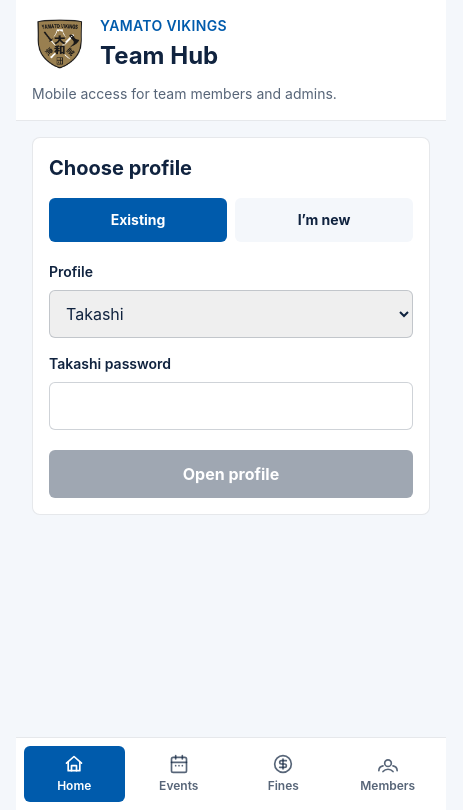
Test: App shell › requires the Takashi password before selecting Takashi
This screenshot has width=463, height=810.
Expected: the heading "Choose profile" is shown, [49,156,192,180]
Expected: the button "Open profile" is disabled, [49,450,413,498]
Type "wrong" into the password field labelled "Takashi password".
click(231, 406); type("wrong")  # box [49,382,413,430]
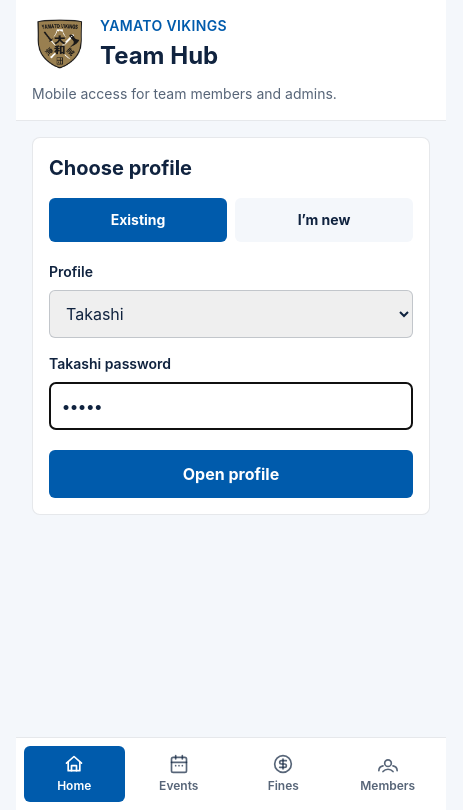
Click the button "Open profile".
click(231, 474)  # box [49,450,413,498]
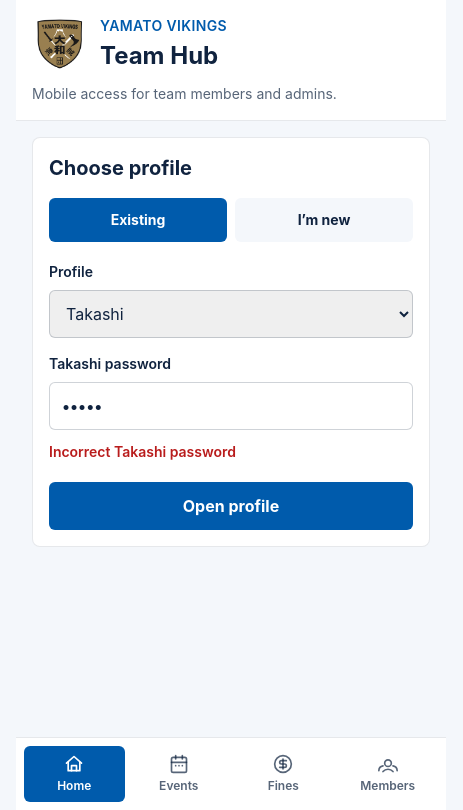
Result: the text "Incorrect Takashi password" is shown at [49,443,236,460]
Type "demo-takashi" into the password field labelled "Takashi password".
click(231, 406); type("demo-takashi")  # box [49,382,413,430]
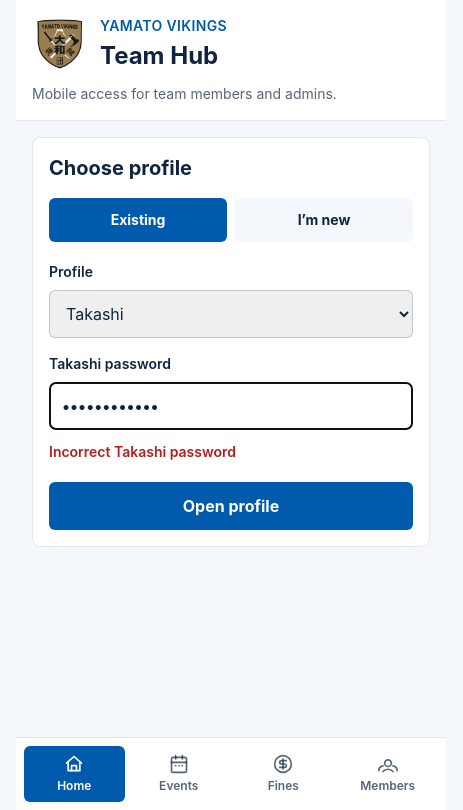
Click the button "Open profile".
click(231, 506)  # box [49,482,413,530]
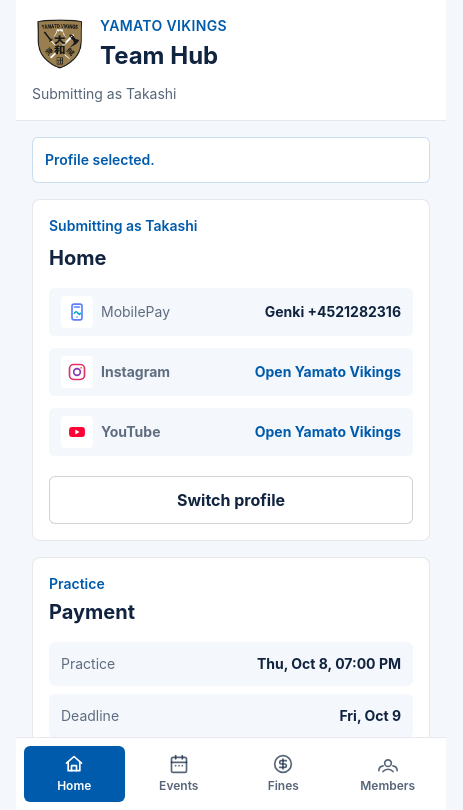
Result: the text "Profile selected." is shown at [32,137,430,183]
Result: the text "Submitting as Takashi" below "Team Hub" is shown at [32,85,176,102]
